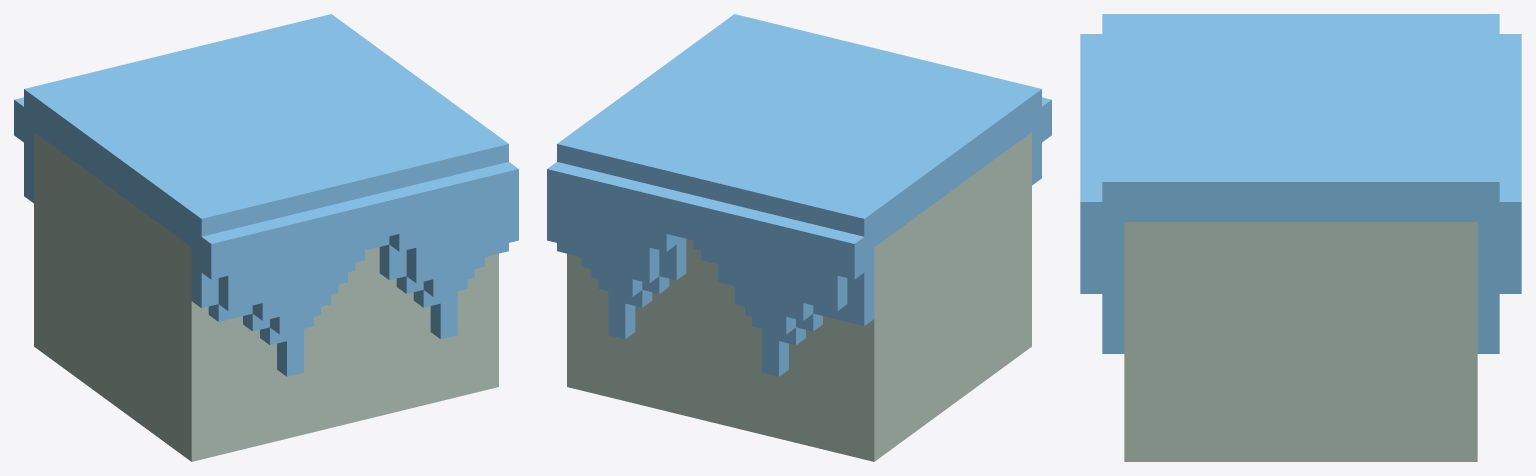
Rendered from Floors-17.obj.
The picture shows the model from 3 angles, left to right: view 1: azimuth 30°, elevation 25°; view 2: azimuth 150°, elevation 25°; view 3: azimuth 270°, elevation 25°; orthographic projection. The views are drawn at different scales.
Bounding box in the file's own units: 1.8 × 1.4 × 2.
